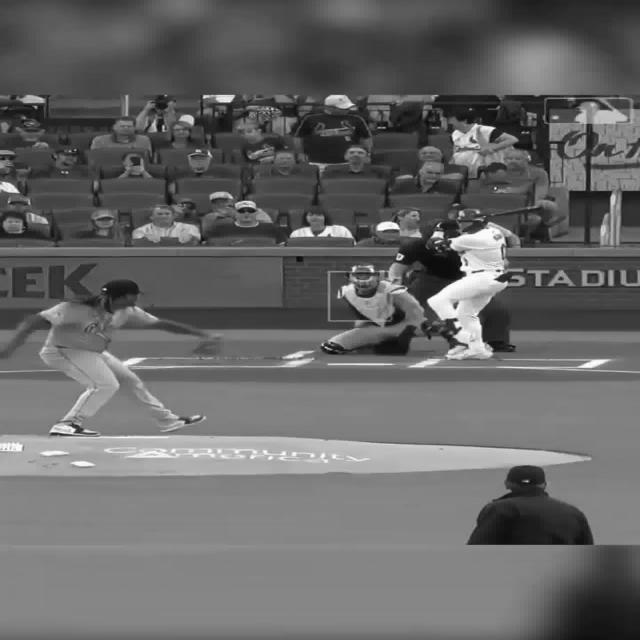base: (326, 362, 395, 367)
baseball_glove: (48, 421, 101, 438), (158, 416, 210, 432), (192, 332, 225, 352)
bat: (489, 204, 542, 218)
shoe: (446, 347, 491, 361)
